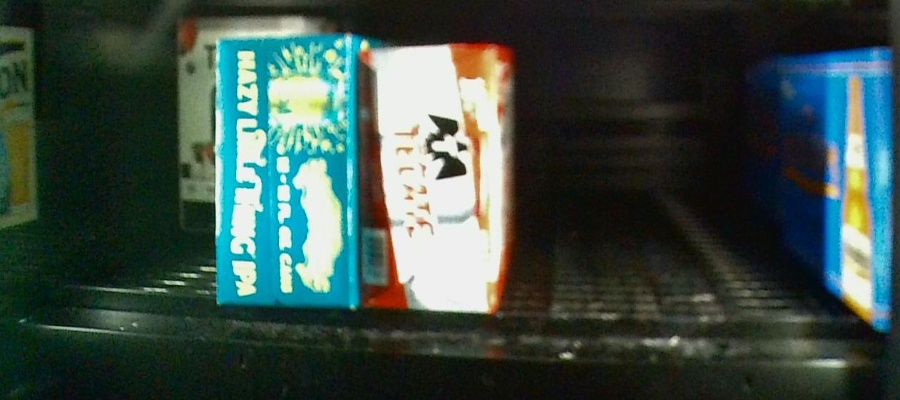bottle: (362, 46, 516, 316), (217, 31, 355, 308), (173, 15, 215, 231)
